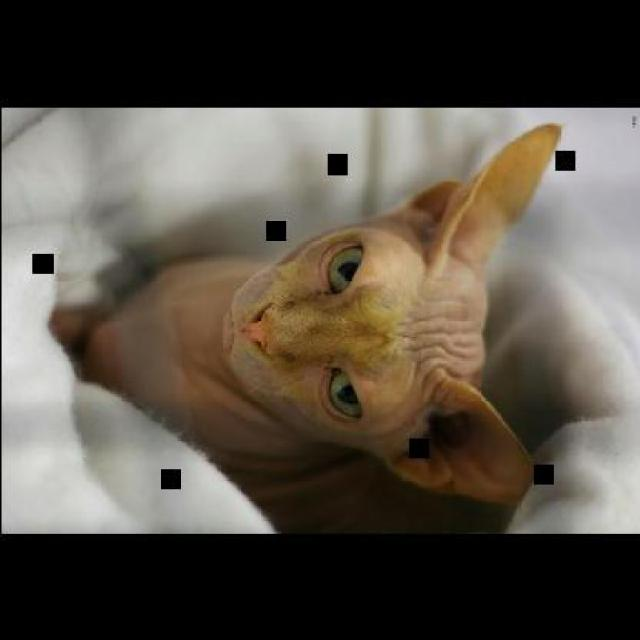unauthorized: (49, 118, 566, 534)
